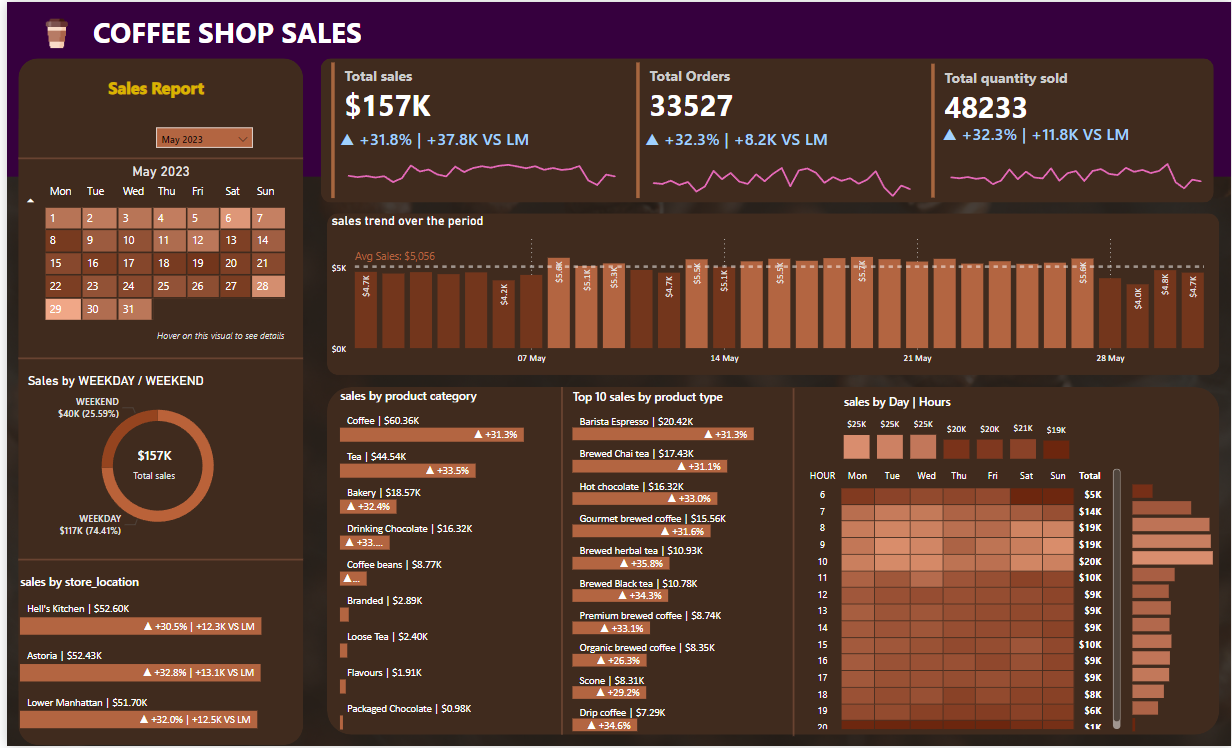

Layout of this report page (visuals, bound fields, positions):
{"tool":"powerbi","page":{"name":"Page 1","canvas":[1400,850],"ordinal":0},"visuals":[{"type":"shape","box":[0,0,1400.3,199.6],"z":0},{"type":"cardVisual","fields":{"Data":["Transactions.Total sales"]},"box":[366.2,64.5,348.2,165.1],"z":0,"group":"g1"},{"type":"cardVisual","fields":{"Data":["Transactions.Total Orders"]},"box":[714.6,64.5,336.2,165.1],"z":0,"group":"g2"},{"type":"group","id":"g1","title":"Group 2","box":[366.2,64.5,348.2,165.1],"z":10,"group":"g3"},{"type":"group","id":"g2","title":"Group 2","box":[714.6,64.5,336.2,165.1],"z":10,"group":"g4"},{"type":"shape","box":[13.5,64.5,325.7,785],"z":1000},{"type":"cardVisual","fields":{"Data":["Transactions.Total quantity sold"]},"box":[1050.9,66.4,328.7,163.6],"z":1000,"group":"g6"},{"type":"lineChart","fields":{"Category":["Date Table.Date Hierarchy.Date"],"Y":["Transactions.Total sales"]},"box":[375.9,143.2,334.3,85.5],"z":1000,"group":"g1"},{"type":"lineChart","fields":{"Category":["Date Table.Date Hierarchy.Date"],"Y":["Transactions.Total Orders"]},"box":[724,143.2,322.7,85.5],"z":1000,"group":"g2"},{"type":"shape","box":[358.7,64.5,1020.6,165.1],"z":2000},{"type":"lineChart","fields":{"Category":["Date Table.Date Hierarchy.Date"],"Y":["Transactions.Total quantity sold"]},"box":[1063.1,137.9,315.2,85.5],"z":2000,"group":"g6"},{"type":"textbox","box":[81,7.5,340.7,57],"z":3000},{"type":"slicer","fields":{"Values":["Date Table.Month year"]},"box":[165.1,138.1,120.1,42],"z":4000},{"type":"group","id":"g3","title":"Group 1","box":[366.2,64.5,348.2,165.1],"z":5000},{"type":"group","id":"g4","title":"Group 1","box":[714.6,64.5,336.2,165.1],"z":6000},{"type":"group","id":"g5","title":"Group 3","box":[1050.9,66.4,328.7,163.6],"z":7000},{"type":"pivotTable","fields":{"Rows":["Date Table.Week Number"],"Columns":["Date Table.Day Name"],"Values":["Min(Date Table.Day Number)"]},"box":[13.5,199.6,312.2,190.6],"z":8000},{"type":"card","fields":{"Values":["Min(Date Table.Month year)"]},"box":[118.6,180.1,115.6,27],"z":9000},{"type":"group","id":"g6","title":"Group 4","box":[1050.9,66.4,328.7,163.6],"z":9001,"group":"g5"},{"type":"card","fields":{"Values":["Date Table.Foot note"]},"box":[165.1,367.7,157.6,22.5],"z":10000},{"type":"shape","box":[13.5,390.2,325.7,34.5],"z":11000},{"type":"shape","box":[13.5,162.1,325.7,34.5],"z":12000},{"type":"donutChart","title":" Sales by WEEKDAY / WEEKEND","fields":{"Category":["Date Table.WEEKDAY / WEEKEND"],"Y":["Transactions.Total sales"]},"box":[18,424.7,307.7,195.1],"z":13000},{"type":"card","fields":{"Values":["Transactions.Total sales"]},"box":[127.6,504.3,82.5,46.5],"z":14000},{"type":"shape","box":[13.5,619.9,325.7,34.5],"z":15000},{"type":"clusteredBarChart","title":"sales by store_location","fields":{"Category":["Transactions.store_location"],"Y":["Transactions.Placeholder","Transactions.Total sales"]},"box":[10,652.3,313.3,185.2],"z":16000},{"type":"shape","box":[366,242.1,1019.8,185],"z":17000},{"type":"shape","box":[366,440.1,1019.8,397.4],"z":18000},{"type":"columnChart","title":"sales trend over the period","fields":{"Category":["Transactions.transaction_date"],"Y":["Transactions.Total sales"]},"box":[366,242.1,1011.2,182.3],"z":19000},{"type":"clusteredBarChart","title":"sales by product category","fields":{"Y":["Transactions.Placeholder","Transactions.Total sales"],"Category":["Transactions.product_category"]},"box":[376,440.1,250.7,397.4],"z":20000},{"type":"shape","box":[626.7,440.1,14.2,397.4],"z":21000},{"type":"clusteredBarChart","title":"Top 10 sales by product type","fields":{"Y":["Transactions.Placeholder","Transactions.Total sales"],"Category":["Transactions.product_type"]},"box":[640.9,441.3,250.6,397.7],"z":22000},{"type":"shape","box":[891.5,441.3,15,397.7],"z":23000},{"type":"pivotTable","fields":{"Rows":["Transactions.HOUR"],"Columns":["Date Table.Day Name"],"Values":["Transactions.Total sales"]},"box":[906.5,528.3,370.7,307.7],"z":24000},{"type":"clusteredBarChart","fields":{"Category":["Transactions.HOUR"],"Y":["Transactions.Total sales"]},"box":[1281.7,538.8,103.6,300.2],"z":25000},{"type":"clusteredColumnChart","title":" sales by Day | Hours","fields":{"Y":["Transactions.Total sales"],"Category":["Date Table.Day Name"]},"box":[951.5,447.3,268.7,81],"z":26000},{"type":"textbox","box":[87.1,66,157.6,54],"z":28000},{"type":"image","box":[25.5,14.5,61.8,43.6],"z":28001}]}

Visuals, with their boxes in screenshot pixels (x1, y1, x2, y2), scaled from the page's 1400x850 canvas onto the 1232x748 screenshot:
shape: 0:0:1231:176
cardVisual - Transactions.Total sales: 322:57:629:202
cardVisual - Transactions.Total Orders: 629:57:925:202
"Group 2" group: 322:57:629:202
"Group 2" group: 629:57:925:202
shape: 12:57:298:747
cardVisual - Transactions.Total quantity sold: 925:58:1214:202
lineChart - Date Table.Date Hierarchy.Date x Transactions.Total sales: 331:126:625:201
lineChart - Date Table.Date Hierarchy.Date x Transactions.Total Orders: 637:126:921:201
shape: 316:57:1214:202
lineChart - Date Table.Date Hierarchy.Date x Transactions.Total quantity sold: 936:121:1213:197
textbox: 71:7:371:57
slicer - Date Table.Month year: 145:122:251:158
"Group 1" group: 322:57:629:202
"Group 1" group: 629:57:925:202
"Group 3" group: 925:58:1214:202
pivotTable - Date Table.Week Number x Date Table.Day Name: 12:176:287:343
card - Min(Date Table.Month year): 104:158:206:182
"Group 4" group: 925:58:1214:202
card - Date Table.Foot note: 145:324:284:343
shape: 12:343:298:374
shape: 12:143:298:173
" Sales by WEEKDAY / WEEKEND" donutChart: 16:374:287:545
card - Transactions.Total sales: 112:444:185:485
shape: 12:546:298:576
"sales by store_location" clusteredBarChart: 9:574:285:737
shape: 322:213:1220:376
shape: 322:387:1220:737
"sales trend over the period" columnChart: 322:213:1212:373
"sales by product category" clusteredBarChart: 331:387:551:737
shape: 551:387:564:737
"Top 10 sales by product type" clusteredBarChart: 564:388:785:738
shape: 785:388:798:738
pivotTable - Transactions.HOUR x Date Table.Day Name: 798:465:1124:736
clusteredBarChart - Transactions.HOUR x Transactions.Total sales: 1128:474:1219:738
" sales by Day | Hours" clusteredColumnChart: 837:394:1074:465
textbox: 77:58:215:106
image: 22:13:77:51
